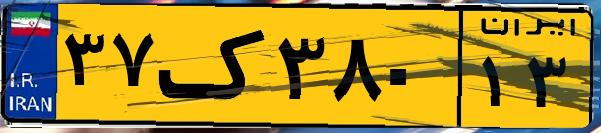0: (385, 28, 445, 110)
1: (475, 38, 525, 113)
3: (270, 28, 330, 110), (57, 26, 110, 100), (525, 38, 570, 115)
7: (110, 28, 158, 98)
8: (330, 28, 385, 110)
ک: (158, 12, 270, 120)
